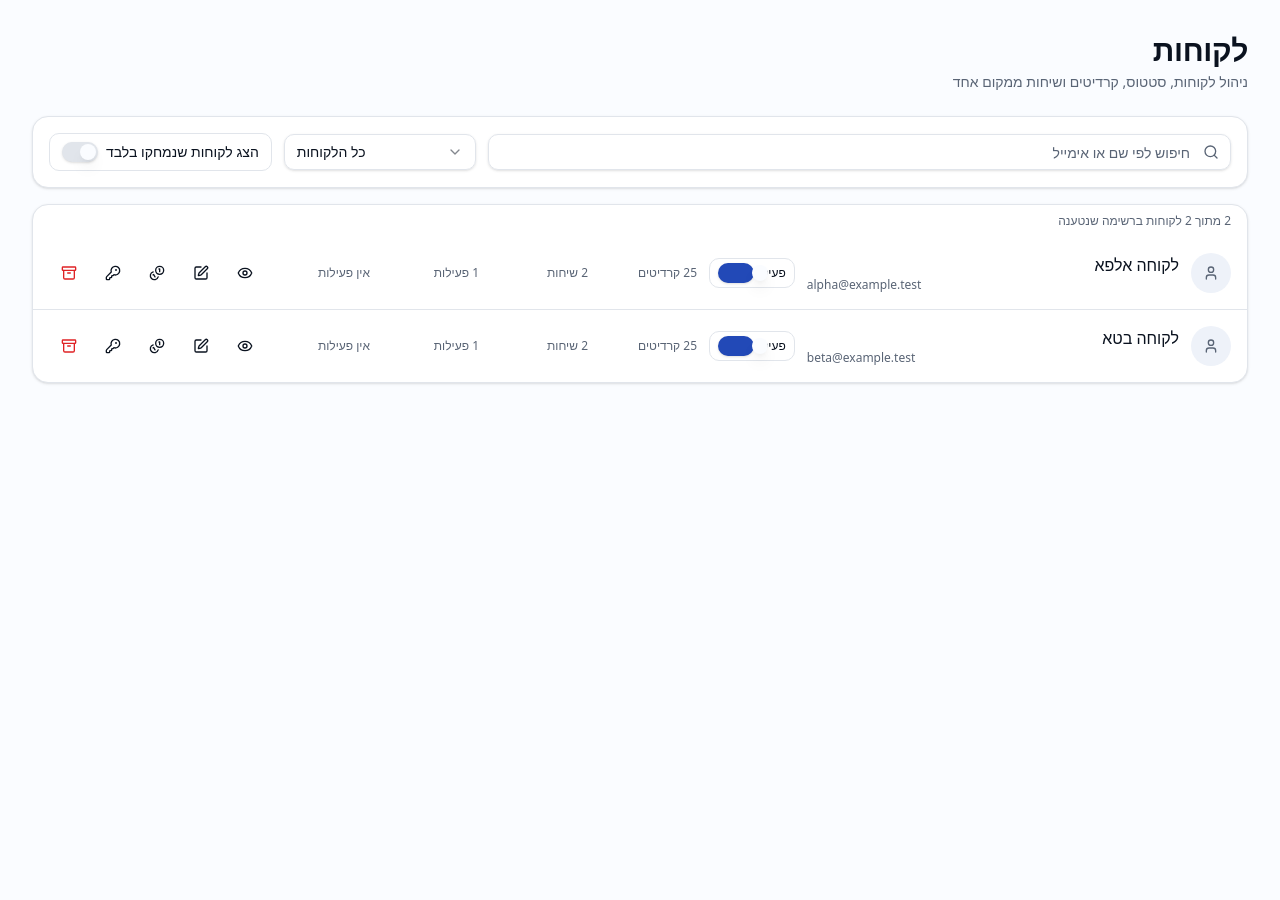
Test: admin client editing › prevents synchronous double-submit, rejects malformed success and keeps the draft
The image size is (1280, 900).
Expected: the text "לקוחה אלפא" is shown, [1095,254,1179,276]
Click the button titled "עריכת לקוח" in the row of "alpha@example.test" at (201, 273), box [181,257,221,289]
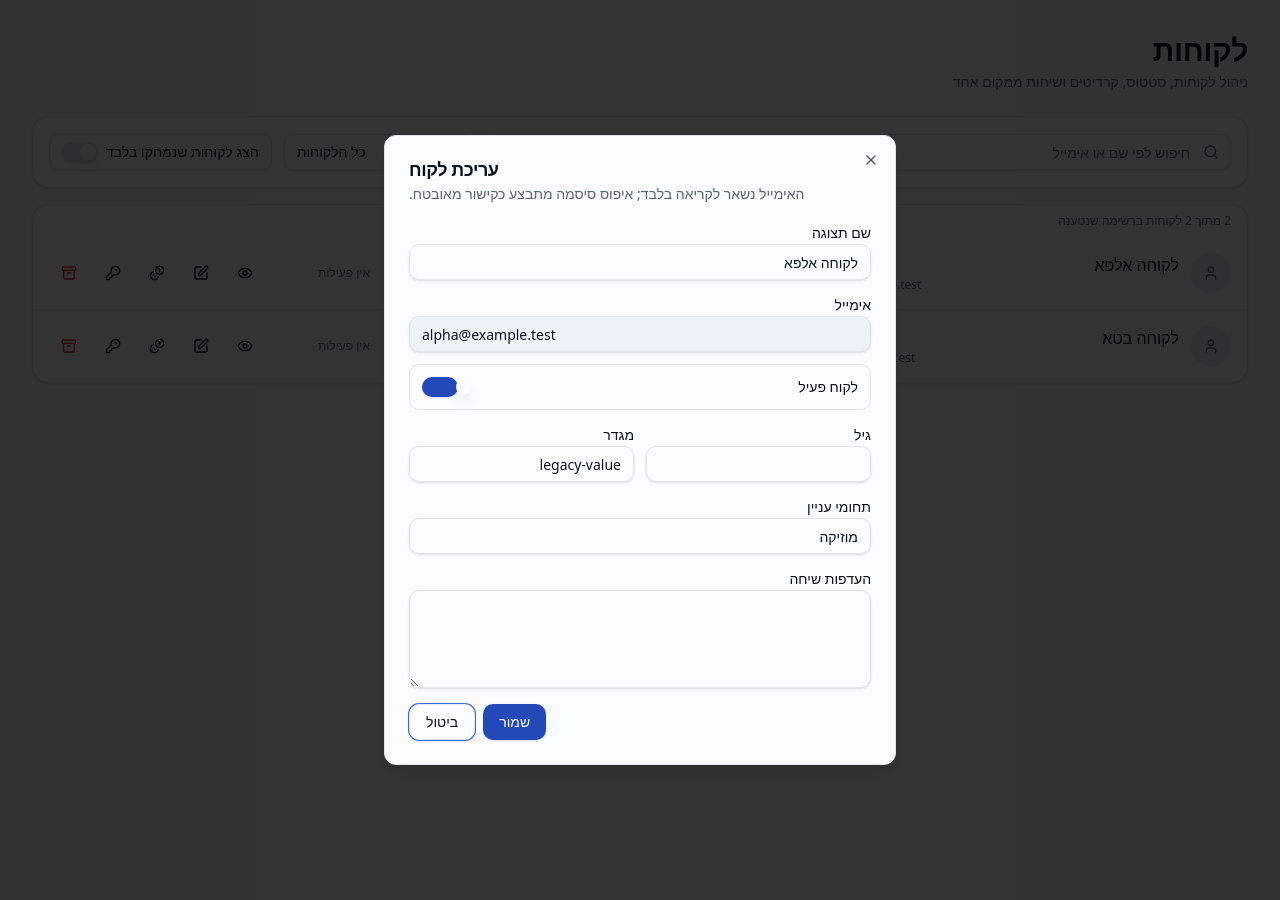
Replace the text in the field labelled "שם תצוגה" with "טיוטה לשימור" at (640, 262), box [409,244,871,280]
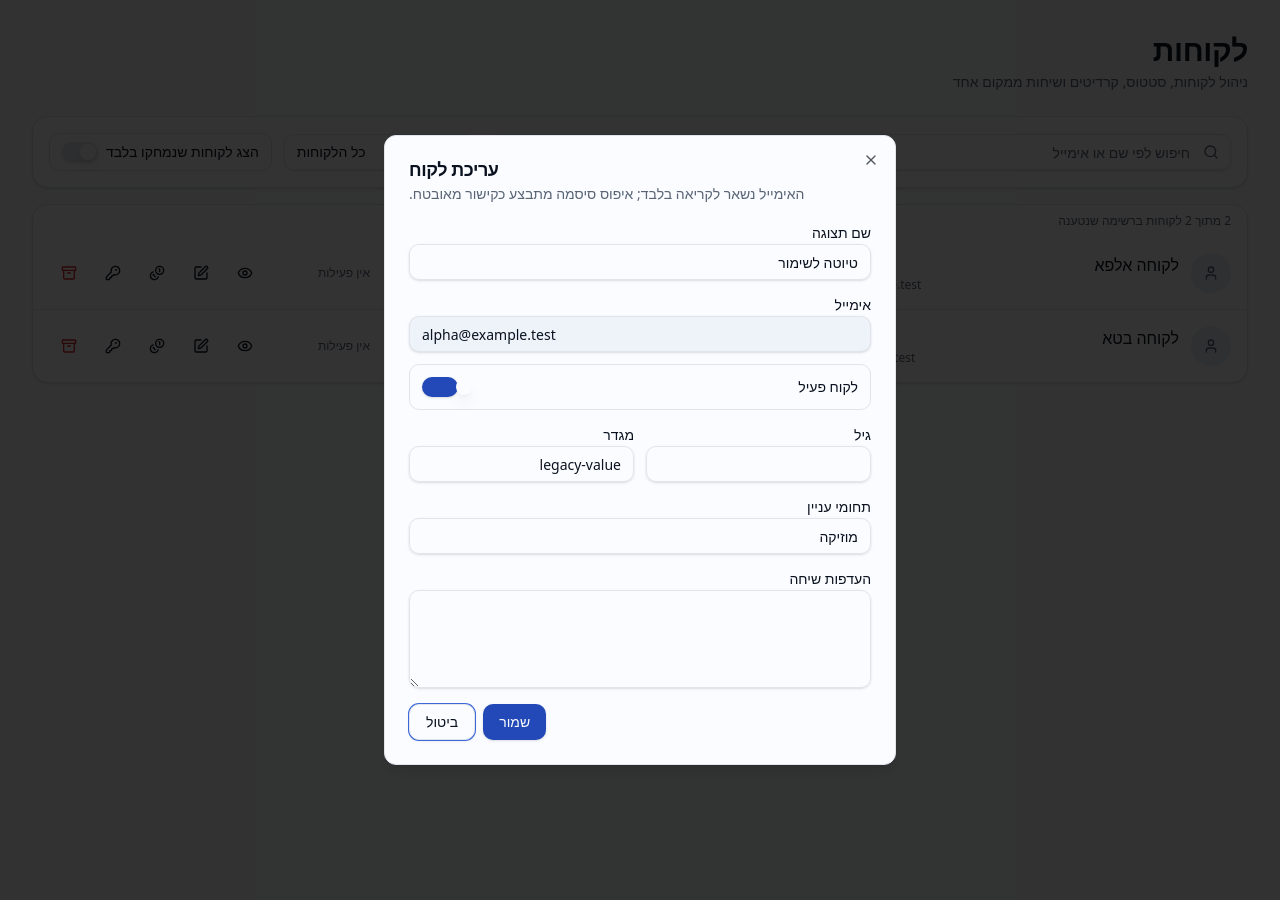
Click the button "שמור" at (515, 722), box [483,704,546,740]
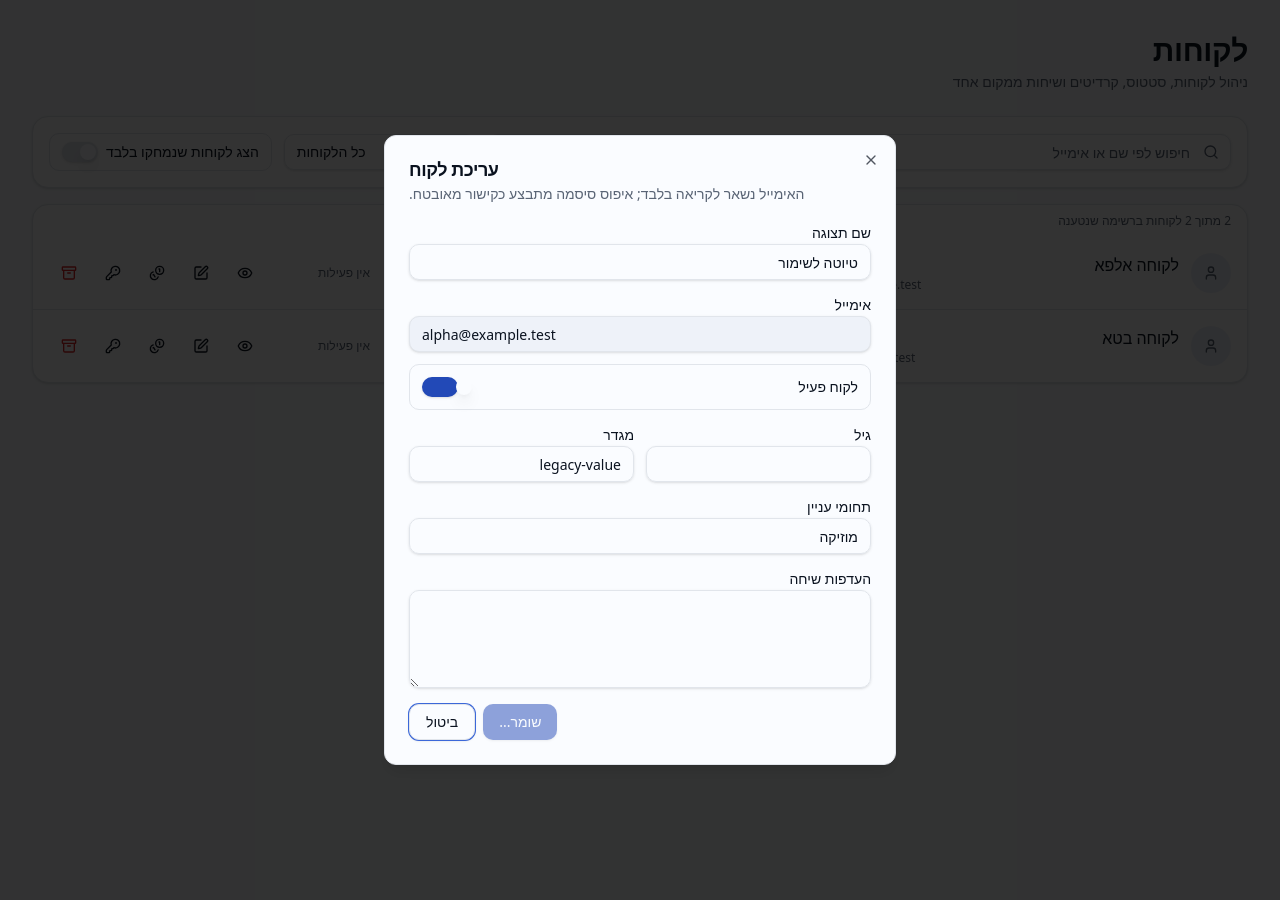
Click the button named "שמור" at (520, 722), box [483,704,557,740]
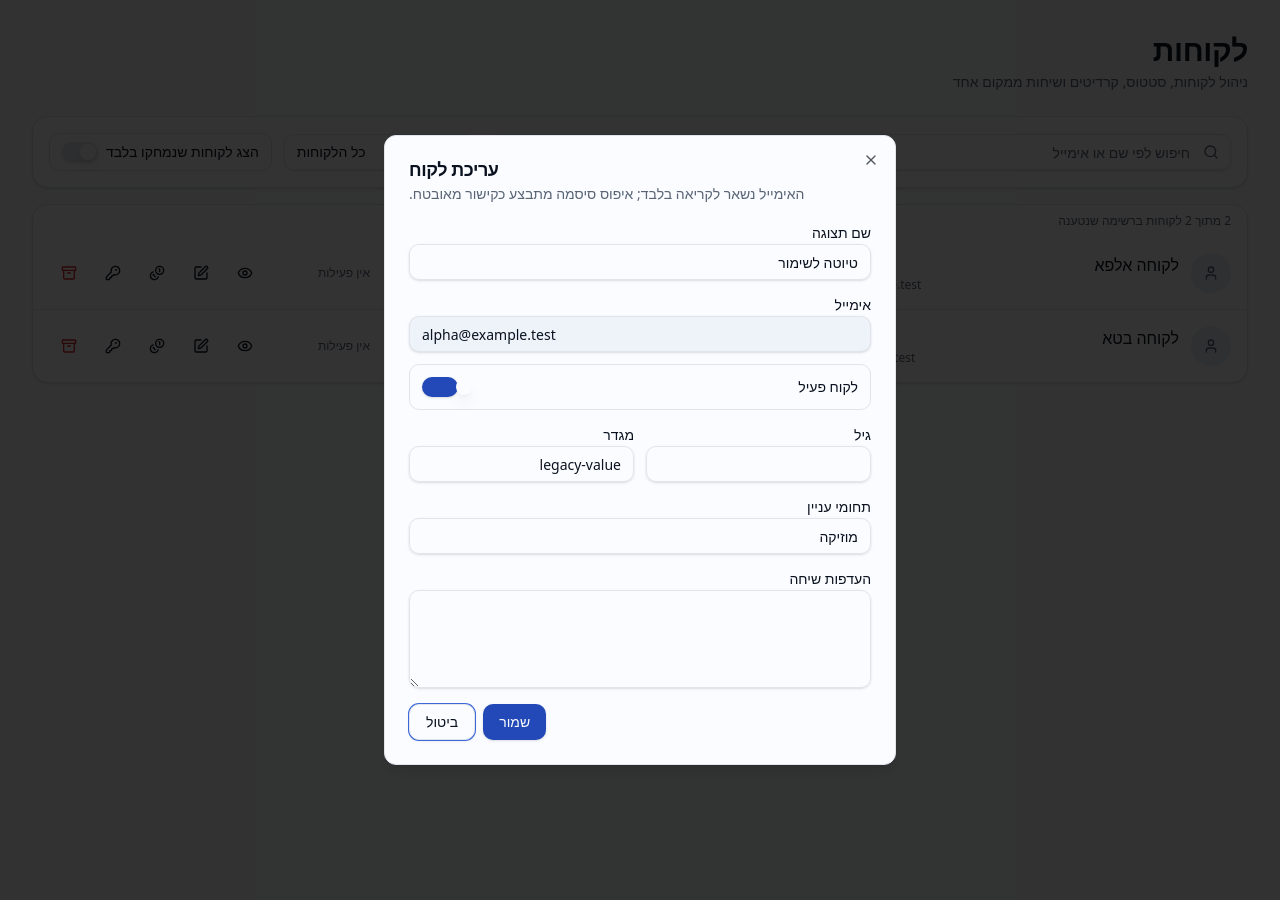
Result: the button "שמור" is enabled at [483,704,546,740]
